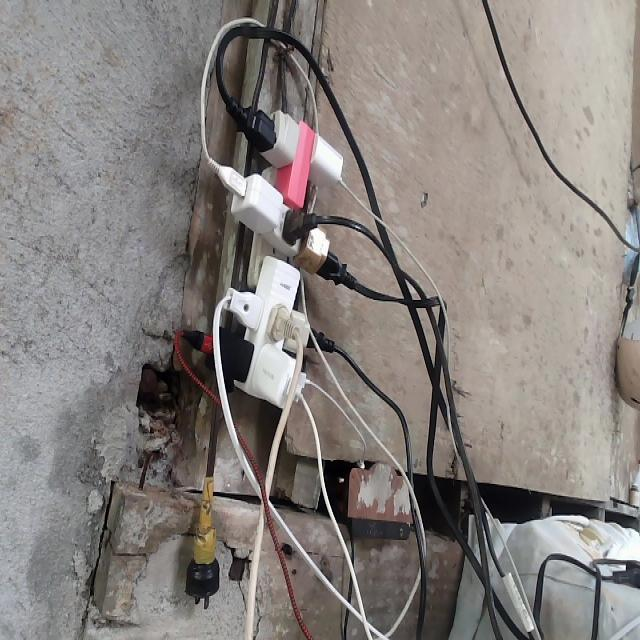-: (206, 108, 349, 411)
